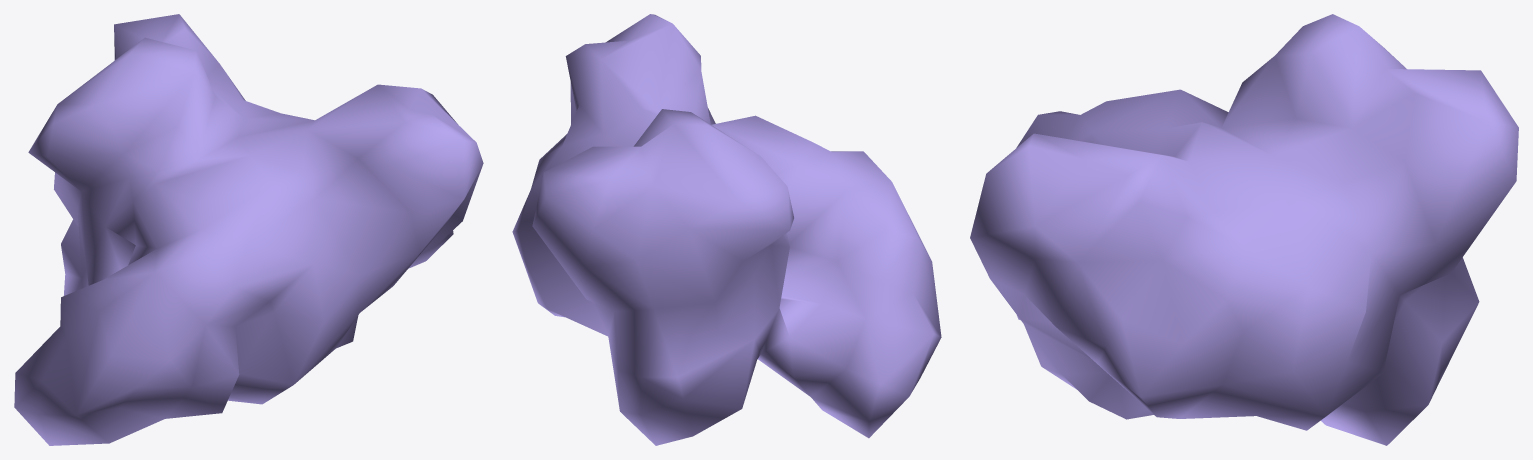
Rendered from MiinBloodPlasma_Albumin_1ao6_0_1_0.dae.
3 renders of one model, left to right at view 1: azimuth 30°, elevation 25°; view 2: azimuth 150°, elevation 25°; view 3: azimuth 270°, elevation 25°, orthographic. The views are drawn at different scales.
Visible parts, largest first — view 1: CoarseMS_1AO6; view 2: CoarseMS_1AO6; view 3: CoarseMS_1AO6.
Boxes of the visible parts, bbox=[...] form: CoarseMS_1AO6: bbox=[14, 14, 483, 445]; CoarseMS_1AO6: bbox=[512, 14, 941, 445]; CoarseMS_1AO6: bbox=[970, 14, 1518, 445].
Size of the model in its own units: 81.76 by 63.24 by 75.45.
